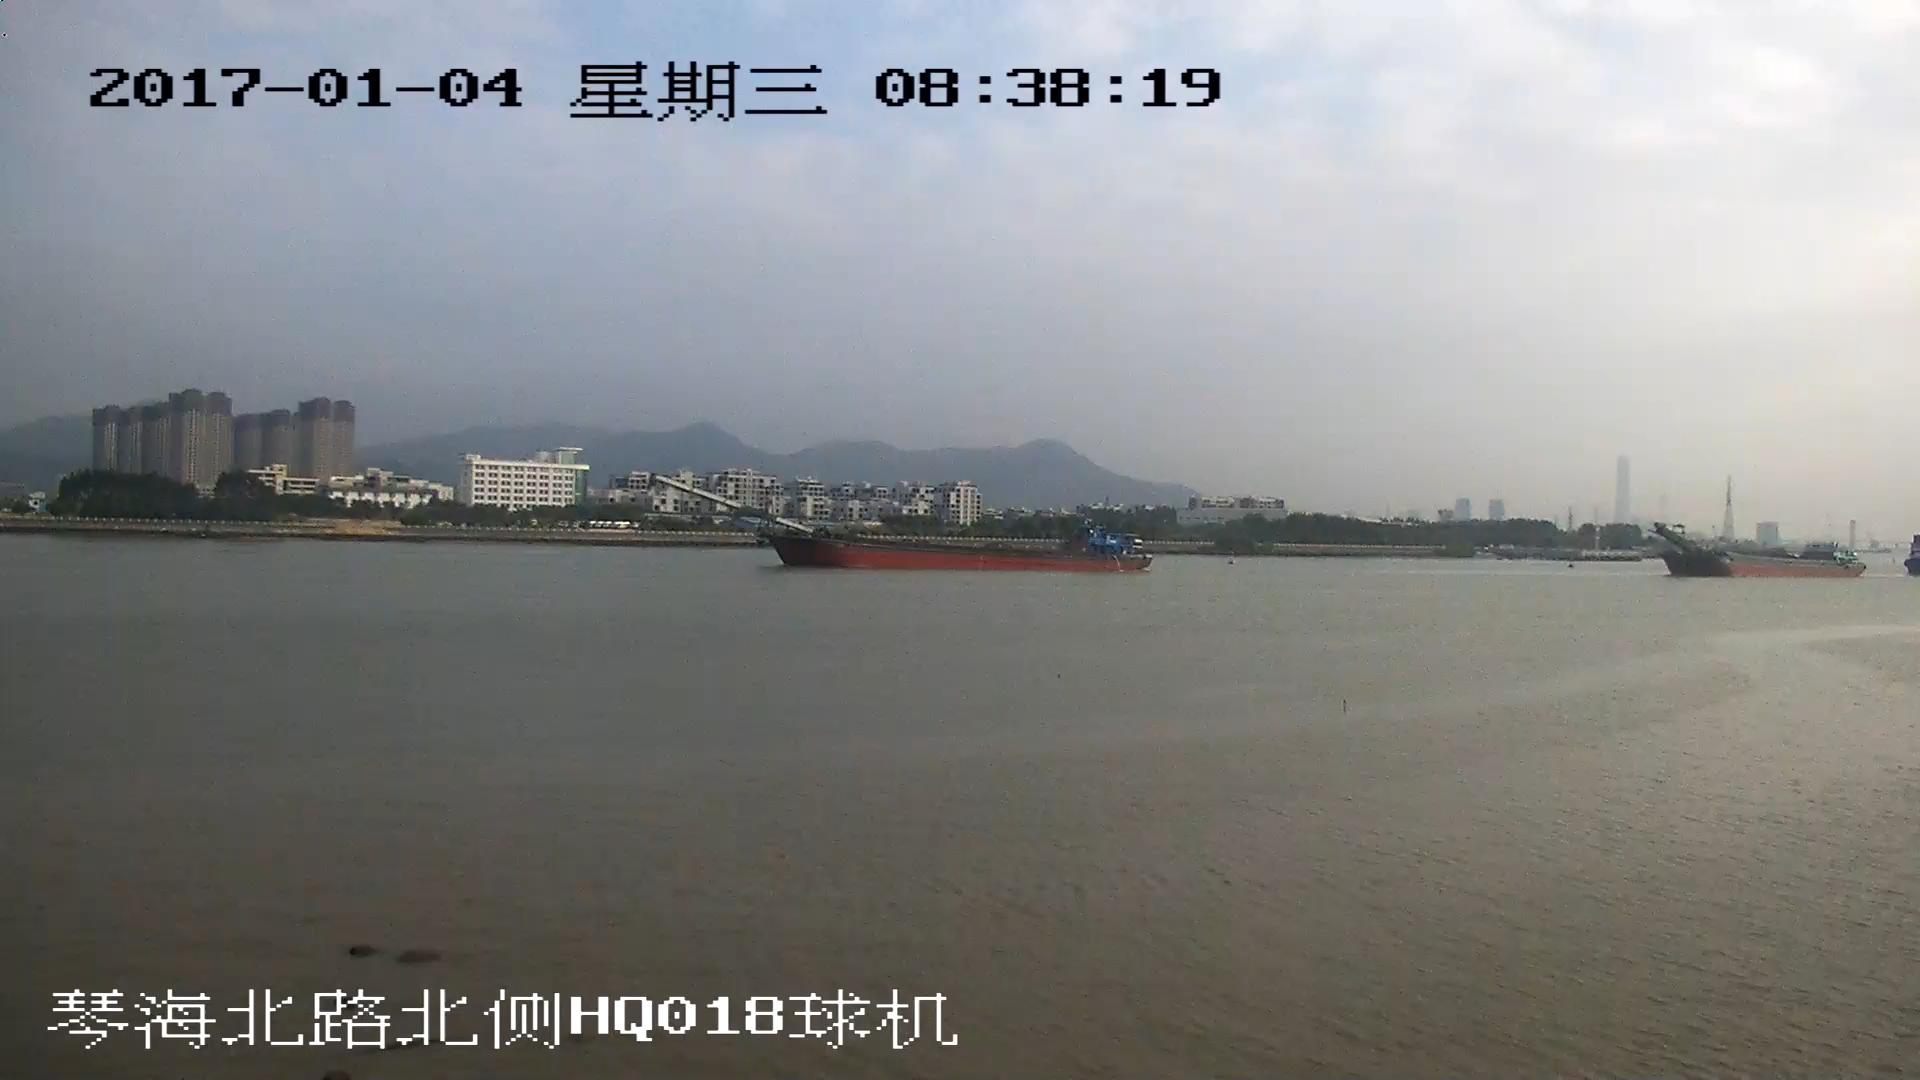bulk cargo carrier: (654, 473, 1147, 573), (1656, 527, 1859, 577)
